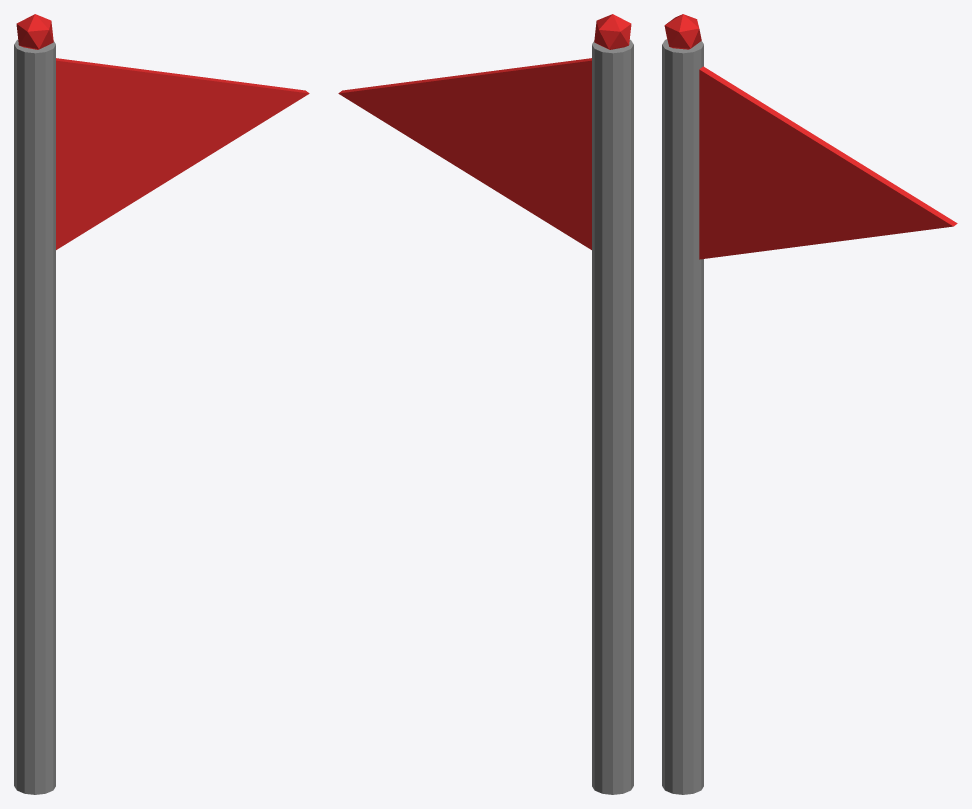
The model's file is goal_flag.glb.
3 views of the same model, side by side, from view 1: azimuth 30°, elevation 25°; view 2: azimuth 150°, elevation 25°; view 3: azimuth 330°, elevation 25° (orthographic).
Visible parts, largest first — view 1: goal_pole, goal_flag_cloth, pole_ball; view 2: goal_pole, goal_flag_cloth, pole_ball; view 3: goal_pole, goal_flag_cloth, pole_ball.
Boxes of the visible parts, left/top/right/bottom form: goal_pole: left=14, top=39, right=55, bottom=794; goal_flag_cloth: left=56, top=58, right=309, bottom=249; pole_ball: left=16, top=14, right=53, bottom=49; goal_pole: left=592, top=39, right=633, bottom=794; goal_flag_cloth: left=338, top=58, right=591, bottom=249; pole_ball: left=594, top=14, right=631, bottom=49; goal_pole: left=662, top=39, right=703, bottom=794; goal_flag_cloth: left=699, top=66, right=957, bottom=259; pole_ball: left=664, top=14, right=701, bottom=49.
Size of the model in its own units: 0.8 by 2.03 by 0.1.
